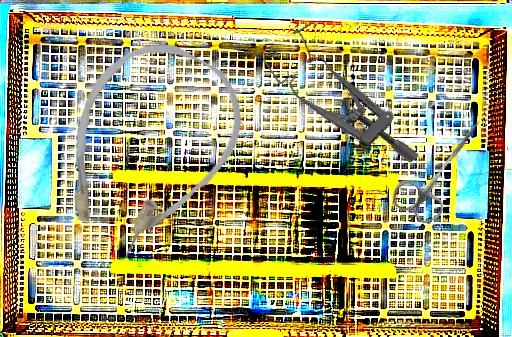Cannula: (26, 19, 266, 280)
Iris Scissors: (386, 104, 500, 231)
Speculum: (258, 12, 422, 199)
